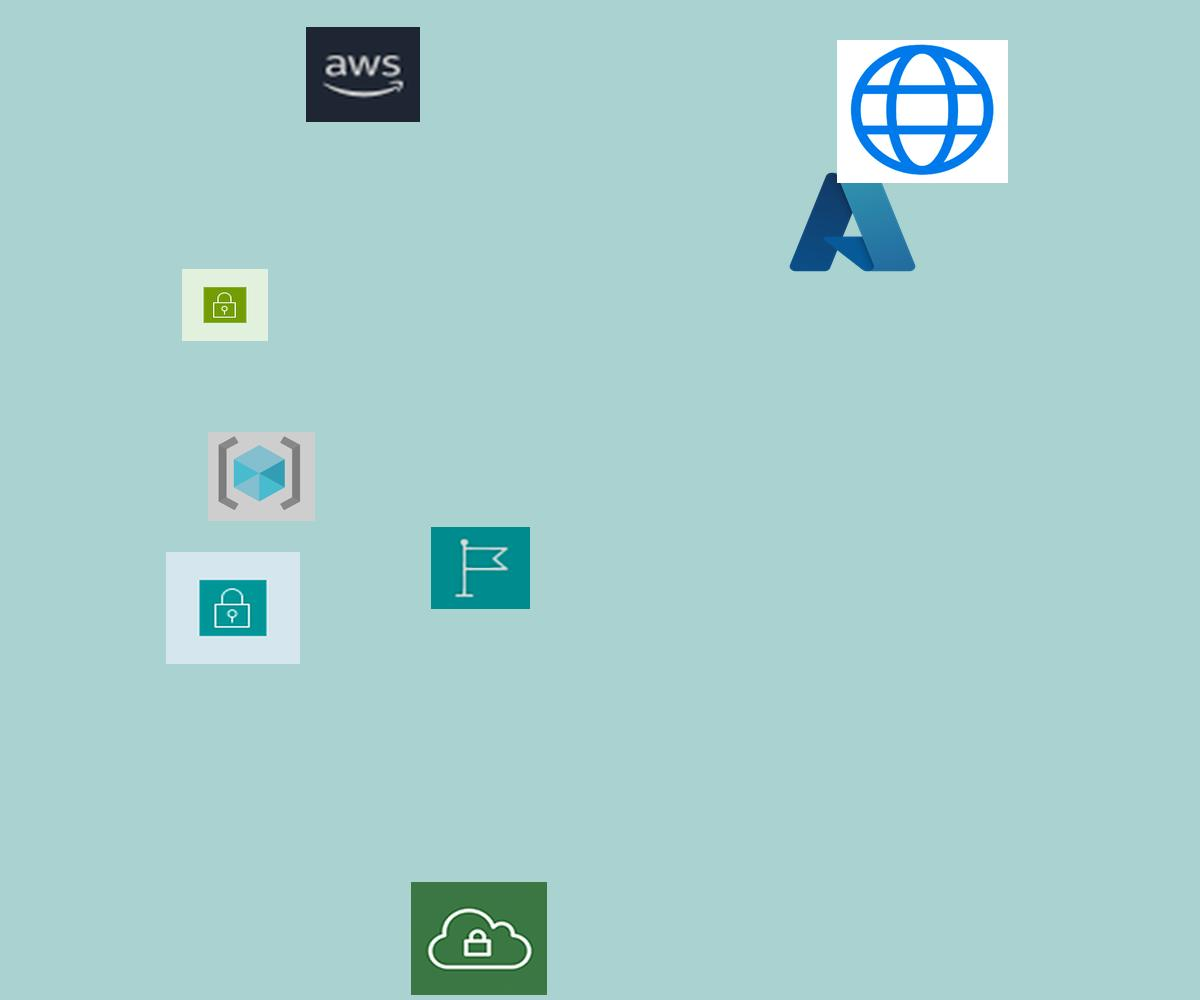AWS-Cloud-logo: (306, 27, 420, 122)
AWS-Private-subnet: (166, 552, 300, 664)
AWS-Private_vpc: (411, 882, 547, 995)
AWS-Public-subnet: (182, 269, 268, 341)
AWS-Region: (431, 527, 530, 609)
Azure_http: (837, 40, 1008, 183)
Azure_resource_group: (208, 432, 315, 521)
Azure_services: (784, 165, 921, 279)
